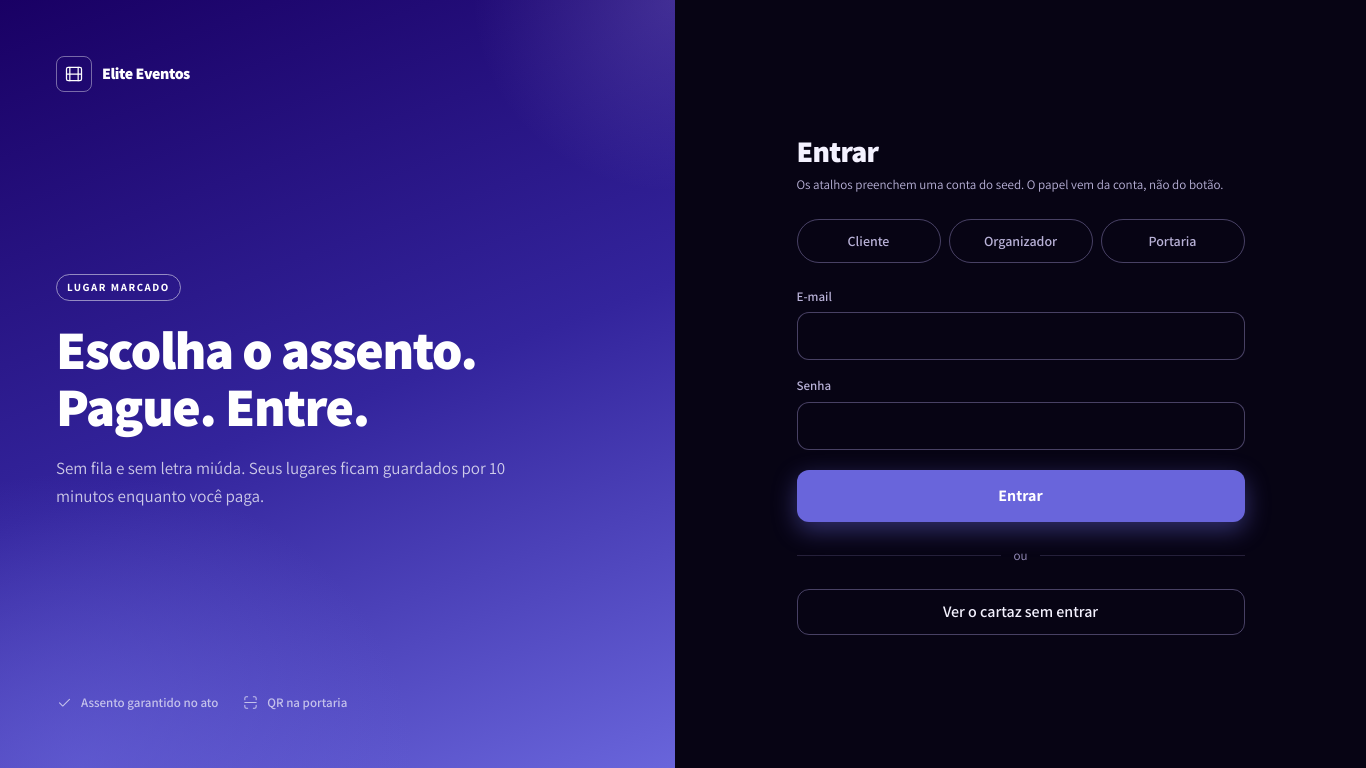
Test: login › mostra form e atalhos de demo que preenchem o seed
Expected: the field labelled "E-mail" is shown, [796,312,1244,360]
Expected: the password field labelled "Senha" is shown, [796,402,1244,450]
Click the button "Cliente": (868, 240) [796,218,940,262]
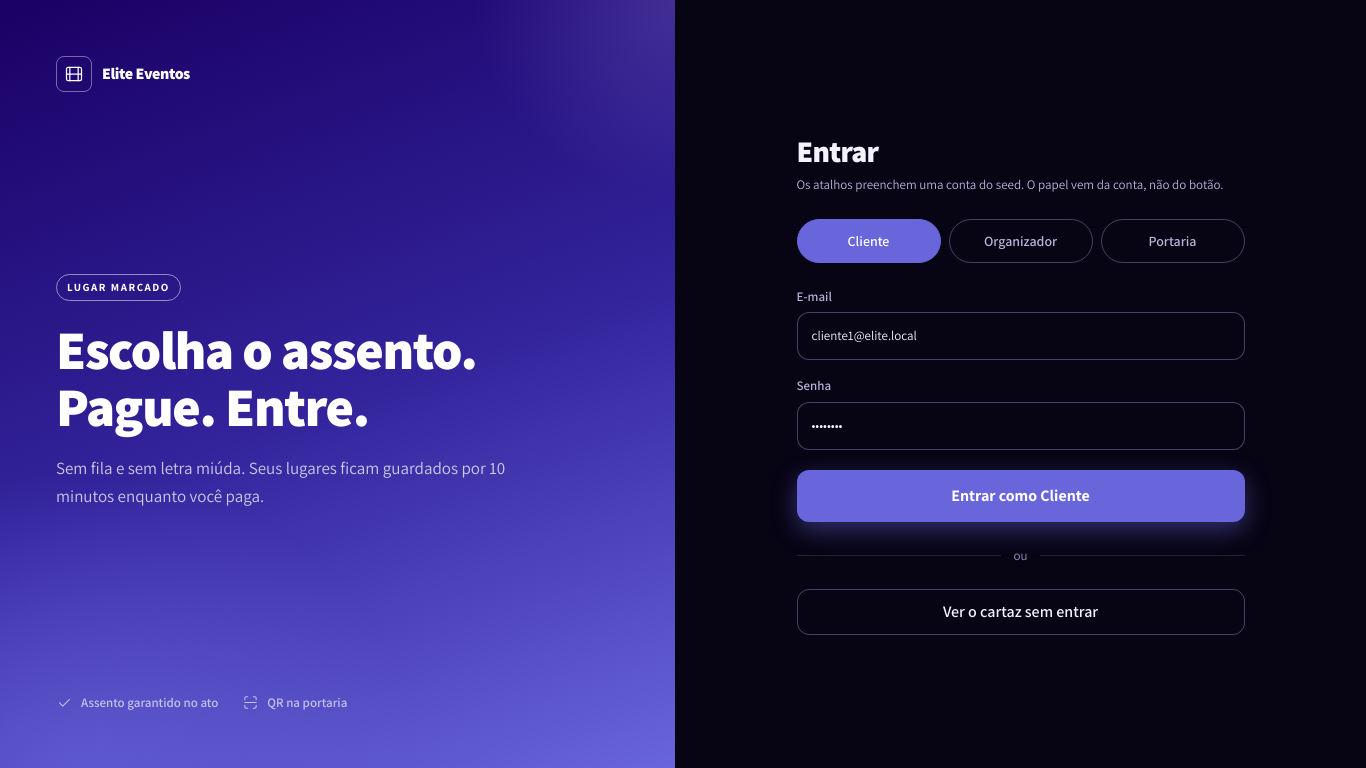
Result: the field labelled "E-mail" holds "cliente1@elite.local" at [796,312,1244,360]
Result: the password field labelled "Senha" holds "cli12345" at [796,402,1244,450]
